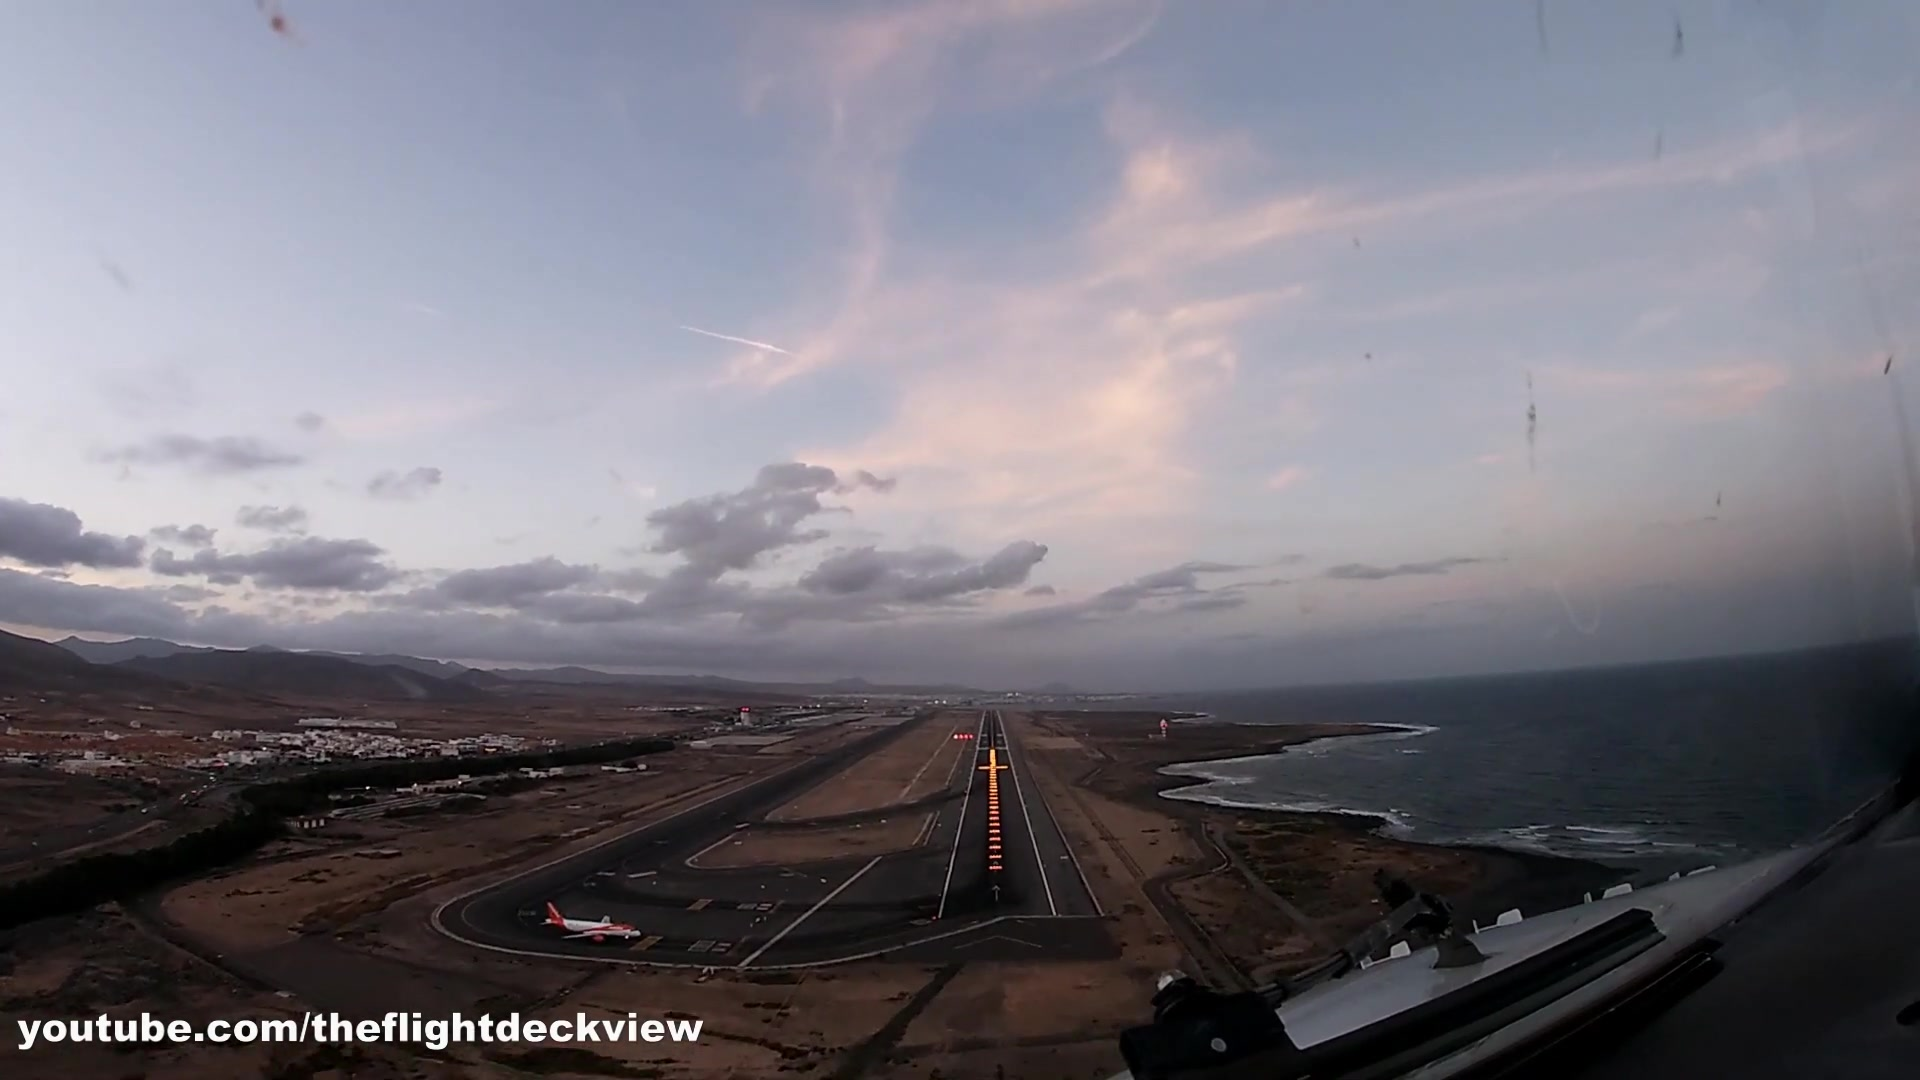runway: (978, 711, 1009, 752)
